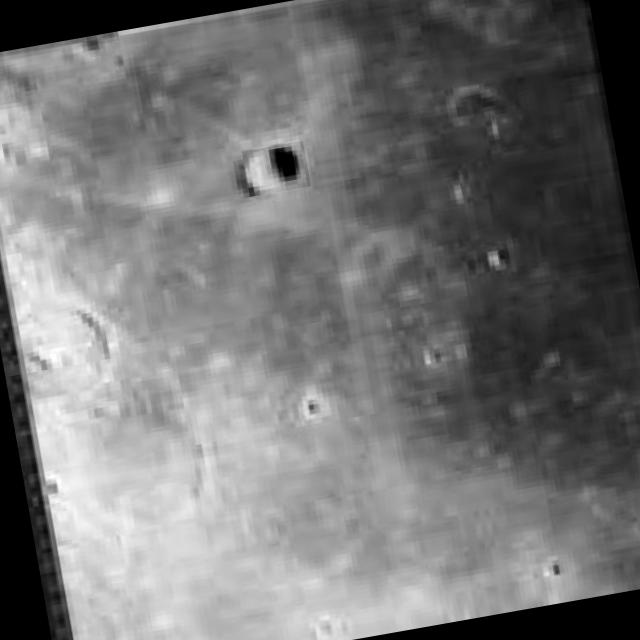crater: (242, 140, 310, 197)
